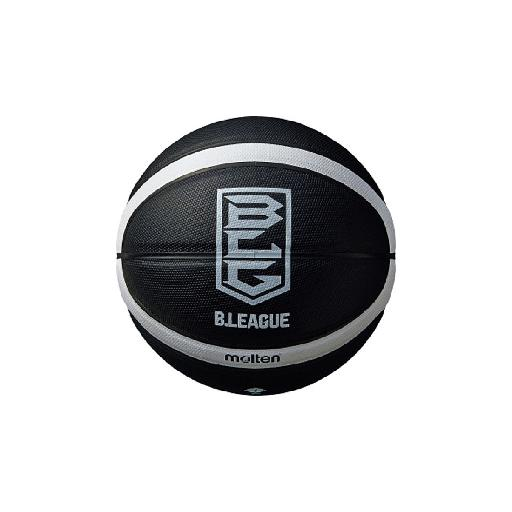ball: (118, 116, 396, 394)
